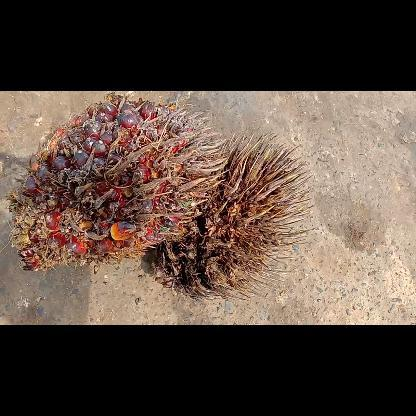Janjang kosong: (150, 133, 312, 299)
TBS masak: (7, 94, 227, 270)
